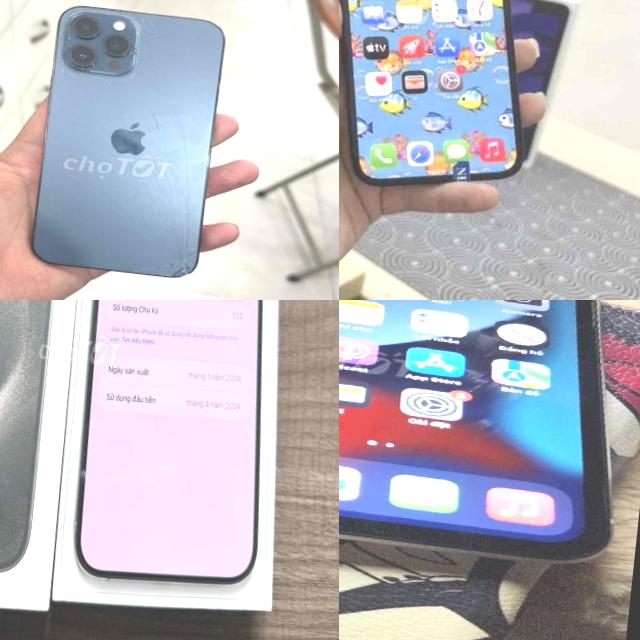physical_damage: (31, 84, 221, 298), (54, 1, 162, 94)
